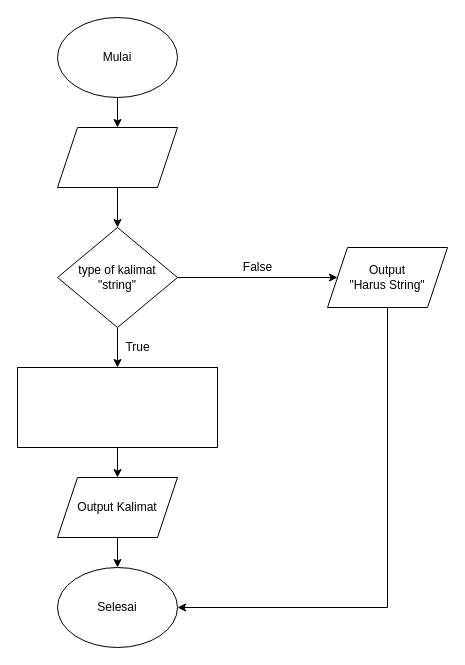
This 465x665 diagram has some shape labels left out. Here are the shapes that lost their labels. From the top down, the box of each, then its label:
(56, 126, 178, 188): Input Kalimat
(16, 366, 218, 448): kalimat..split(" ").reverse().join(" ")
